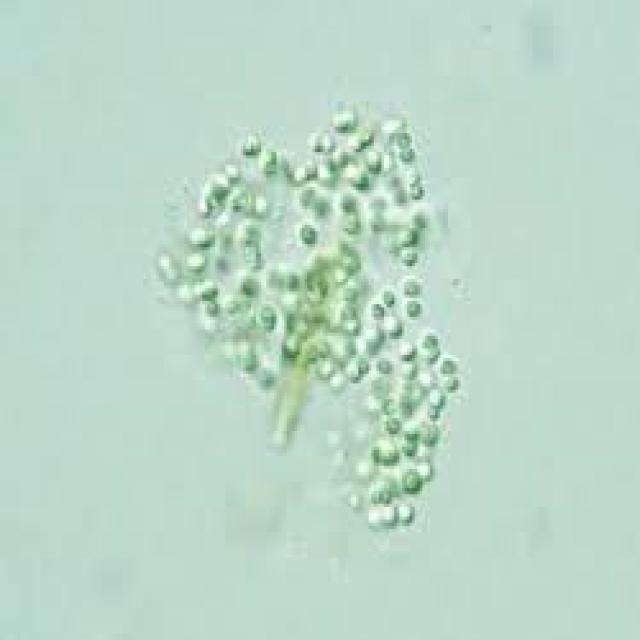Blue Green Algae: (297, 219, 320, 250), (376, 437, 399, 466), (330, 108, 356, 133), (256, 301, 276, 333), (346, 162, 368, 190), (397, 225, 420, 250), (402, 469, 422, 497), (200, 276, 220, 304), (187, 225, 210, 247), (420, 329, 440, 352), (241, 136, 261, 158), (402, 276, 422, 298), (397, 146, 420, 164), (399, 247, 420, 266), (407, 184, 428, 203), (407, 298, 422, 323), (397, 126, 415, 146), (379, 288, 397, 308), (402, 422, 420, 441), (402, 437, 420, 456), (187, 254, 205, 272), (371, 301, 387, 320)
